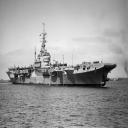Portanaves: (7, 23, 119, 88)
